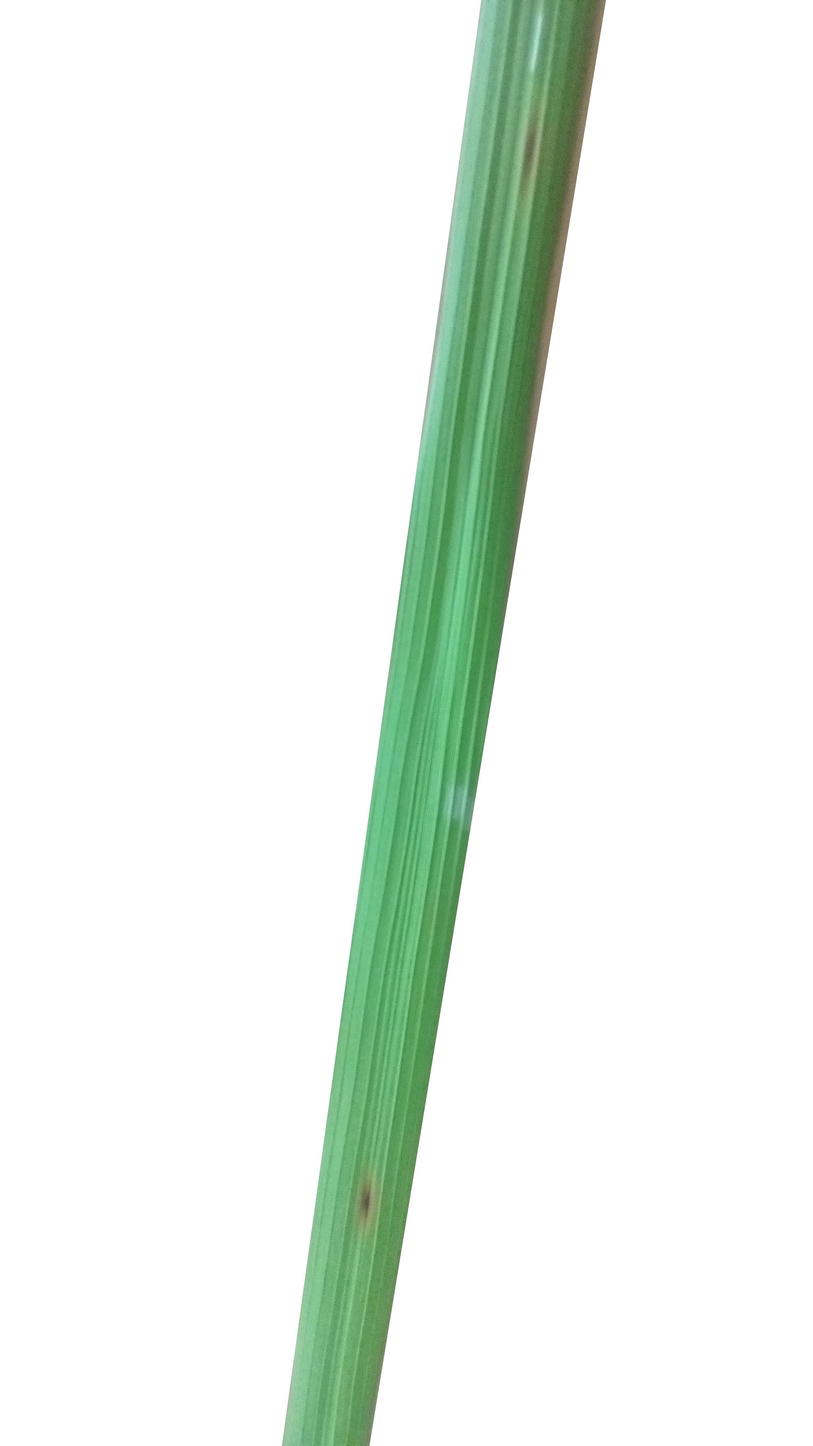Brown spot: (503, 102, 553, 207), (351, 1161, 377, 1250)
